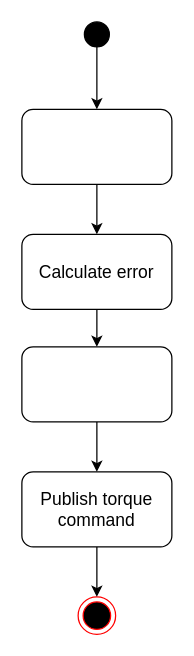
Some shapes in this 194 by 656 pixel diagram are drawn without their labels. The centre of each missing label's shape, as x and y in pixels:
Get current and ideal velocity: the point at 96,146
PID framework: the point at 96,384
